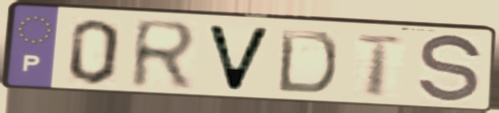0: (64, 16, 123, 88)
D: (274, 27, 340, 97)
R: (128, 16, 203, 93)
S: (414, 32, 486, 107)
T: (352, 32, 409, 100)
V: (202, 22, 275, 95)
